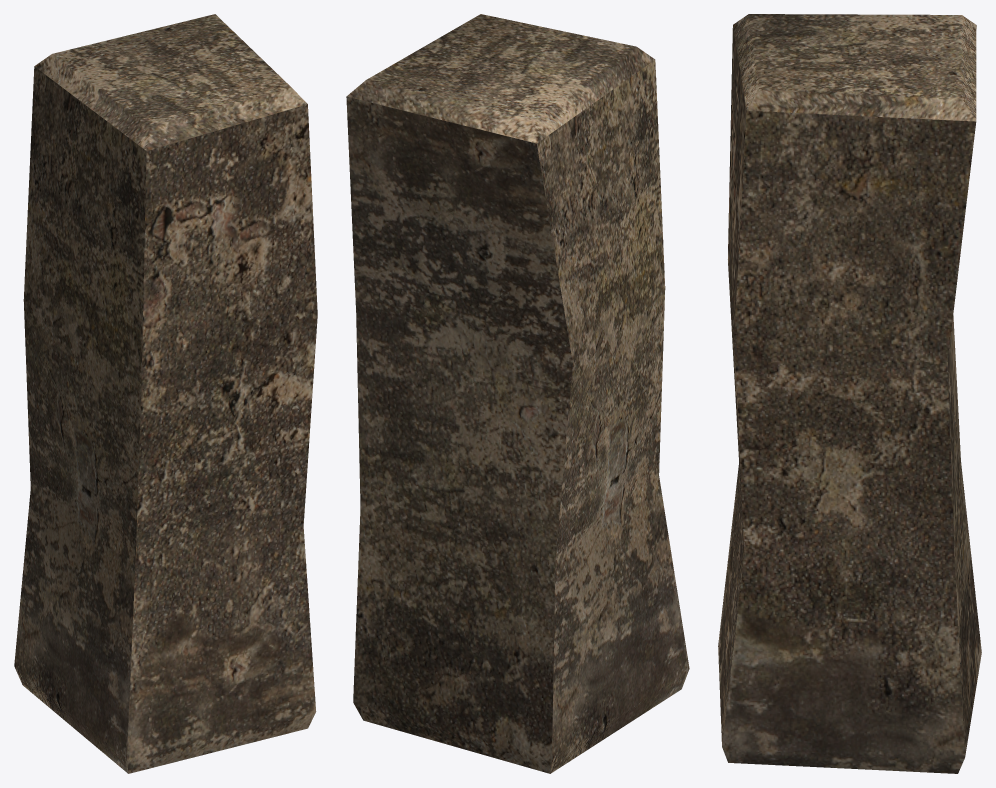
File: materials_5_pillar_short_8.fbx
3 renders of one model, left to right at view 1: azimuth 30°, elevation 25°; view 2: azimuth 150°, elevation 25°; view 3: azimuth 270°, elevation 25°, orthographic. The views are drawn at different scales.
Parts seen in each view (by area): view 1: materials_5_pillar_short_8; view 2: materials_5_pillar_short_8; view 3: materials_5_pillar_short_8.
Boxes of the visible parts, x1,y1,x2,y2 form: materials_5_pillar_short_8: (14, 14, 317, 773); materials_5_pillar_short_8: (346, 14, 689, 773); materials_5_pillar_short_8: (718, 14, 981, 773).
Size of the model in its own units: 25.6 by 70.38 by 25.04.
